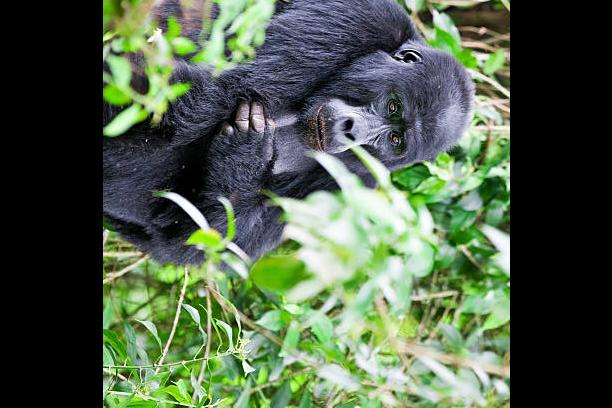goriile_montagne: (102, 0, 510, 319)
